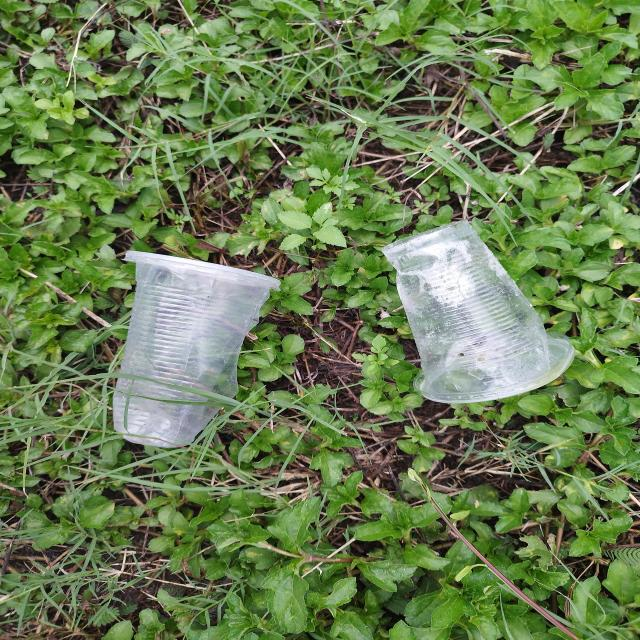plastic glass: (382, 220, 575, 403), (112, 250, 281, 448)
